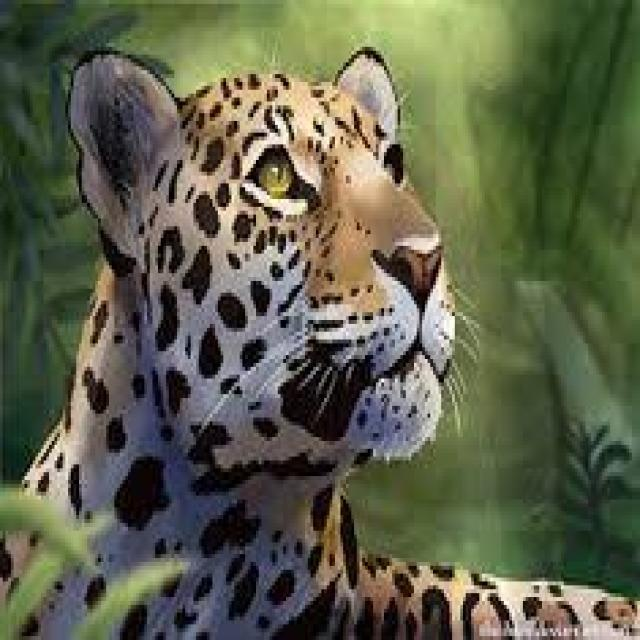Jaguar: (46, 54, 596, 640)
